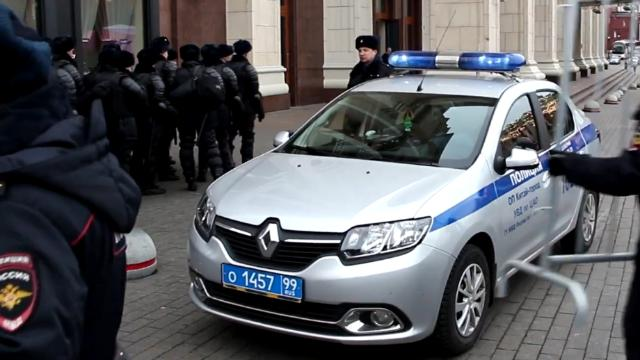police car: (182, 46, 606, 360)
